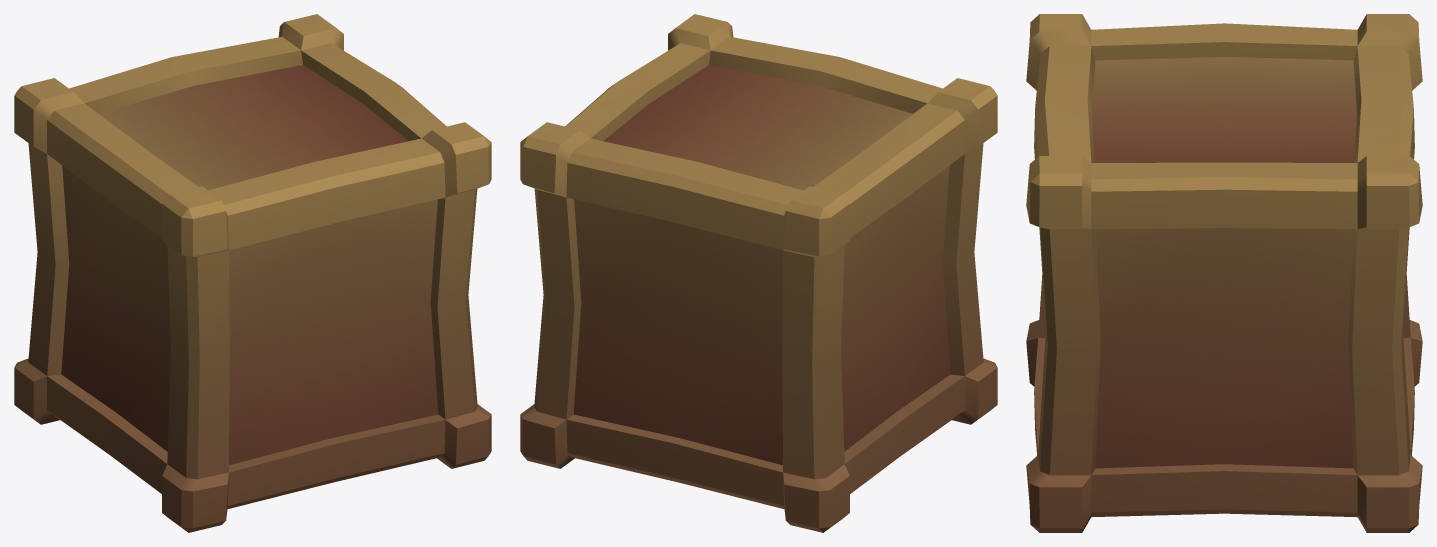
Rendered from SM_Prop_woodBox_01.fbx.
The picture shows the model from 3 angles, left to right: view 1: azimuth 30°, elevation 25°; view 2: azimuth 150°, elevation 25°; view 3: azimuth 270°, elevation 25°; orthographic projection. The views are drawn at different scales.
Visible parts, largest first — view 1: woodBox_PH1; view 2: woodBox_PH1; view 3: woodBox_PH1.
Part boxes in pixels (bbox=[...]): woodBox_PH1: bbox=[14, 14, 491, 532]; woodBox_PH1: bbox=[520, 14, 997, 532]; woodBox_PH1: bbox=[1026, 14, 1422, 532].
Size of the model in its own units: 100 by 100 by 100.
